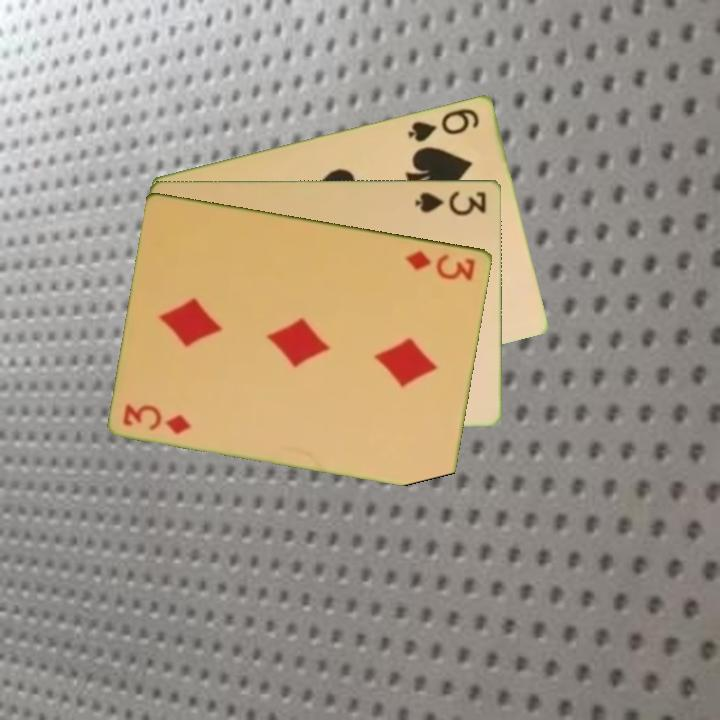3d: (402, 246, 479, 283), (120, 400, 195, 437)
3s: (412, 187, 489, 217)
6s: (404, 104, 483, 145)
